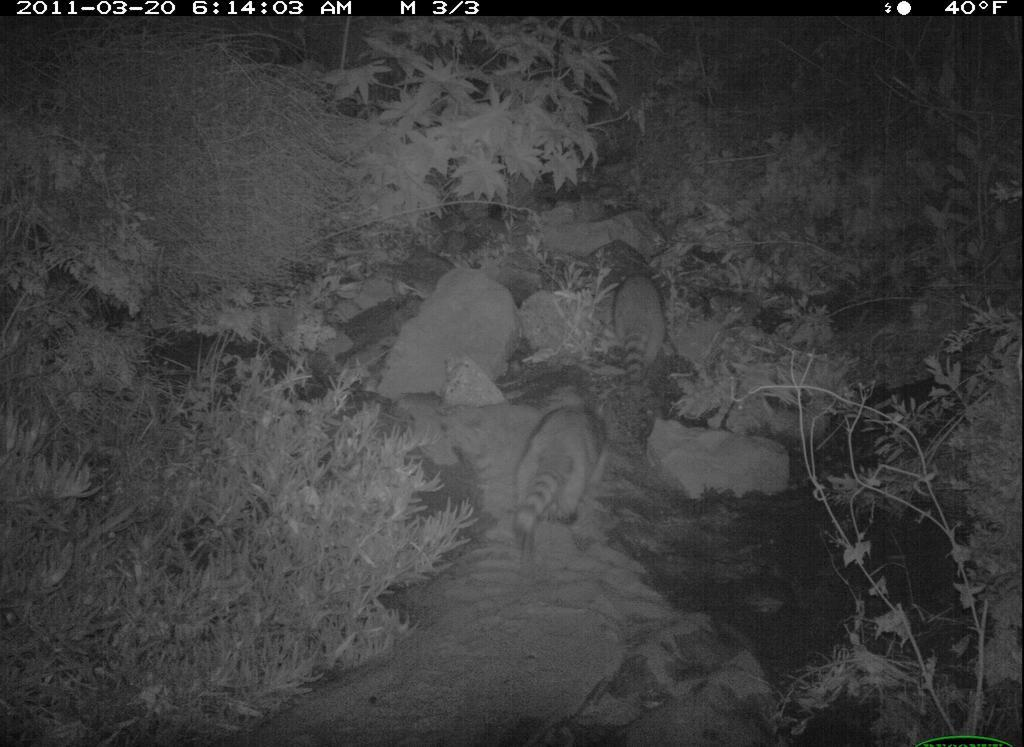raccoon: (509, 399, 612, 562), (611, 268, 670, 391)
